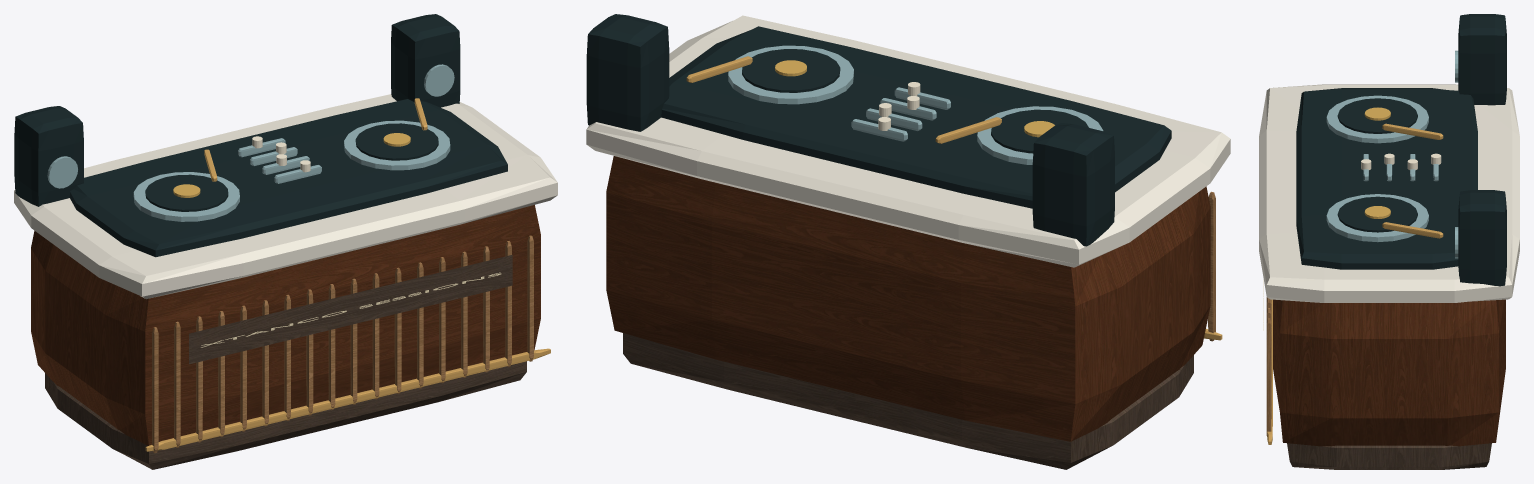
File: hiperreal.glb
The picture shows the model from 3 angles, left to right: view 1: azimuth 30°, elevation 25°; view 2: azimuth 150°, elevation 25°; view 3: azimuth 270°, elevation 25°; orthographic projection. The views are drawn at different scales.
Visible parts, largest first — view 1: Native component 1, Native component 29, Native component 2, Native component 11, Native component 7, Native component 0, Native component 32, Native component 10, Native component 4, Sign XTANCO SESSIONS; view 2: Native component 1, Native component 29, Native component 2, Native component 0, Native component 32, Native component 10, Native component 11, Native component 4, Native component 40; view 3: Native component 29, Native component 1, Native component 2, Native component 0, Native component 32, Native component 10, Native component 11, Native component 4, Native component 40.
Boxes of the visible parts, x1=… form: Native component 1: x1=31, y1=205, x2=540, y2=445; Native component 29: x1=14, y1=14, x2=507, y2=257; Native component 2: x1=14, y1=94, x2=557, y2=299; Native component 11: x1=152, y1=235, x2=533, y2=453; Native component 7: x1=189, y1=255, x2=512, y2=364; Native component 0: x1=45, y1=361, x2=526, y2=469; Native component 32: x1=47, y1=64, x2=454, y2=221; Native component 10: x1=145, y1=98, x2=550, y2=451; Native component 4: x1=173, y1=133, x2=410, y2=197; Sign XTANCO SESSIONS: x1=201, y1=272, x2=501, y2=347; Native component 1: x1=606, y1=156, x2=1210, y2=441; Native component 29: x1=586, y1=14, x2=1171, y2=246; Native component 2: x1=586, y1=15, x2=1230, y2=267; Native component 0: x1=623, y1=333, x2=1193, y2=469; Native component 32: x1=728, y1=45, x2=1103, y2=164; Native component 10: x1=686, y1=56, x2=1222, y2=340; Native component 11: x1=1208, y1=191, x2=1215, y2=341; Native component 4: x1=775, y1=60, x2=1054, y2=137; Native component 40: x1=878, y1=82, x2=920, y2=130; Native component 29: x1=1296, y1=14, x2=1506, y2=286; Native component 1: x1=1273, y1=299, x2=1505, y2=446; Native component 2: x1=1259, y1=84, x2=1519, y2=302; Native component 0: x1=1287, y1=443, x2=1491, y2=469; Native component 32: x1=1326, y1=50, x2=1458, y2=258; Native component 10: x1=1267, y1=123, x2=1443, y2=444; Native component 11: x1=1266, y1=297, x2=1271, y2=436; Native component 4: x1=1364, y1=107, x2=1390, y2=218; Native component 40: x1=1361, y1=153, x2=1441, y2=170.
Bounding box in the file's own units: 2.1 × 1.29 × 1.12.
Materials: 10 (3 with a texture image).
